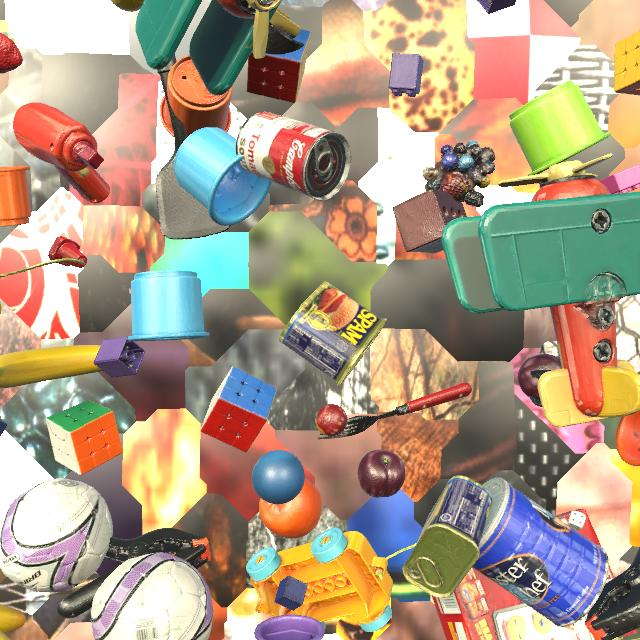ycb_002_master_chef_can: (472, 477, 609, 627)
ycb_003_cracker_box: (432, 509, 638, 640)
ycb_005_tomato_soup_can: (236, 112, 351, 201)
ycb_010_potted_meat_can: (279, 281, 387, 387), (402, 475, 493, 598), (612, 628, 640, 640)
ycb_011_banana: (0, 345, 103, 388), (0, 605, 26, 633)
ycb_012_strawberry: (0, 32, 23, 74)
ycb_014_lemon: (111, 0, 143, 12)
ycb_017_orange: (259, 478, 322, 539)
ycb_018_plum: (358, 449, 405, 498), (518, 354, 562, 398)
